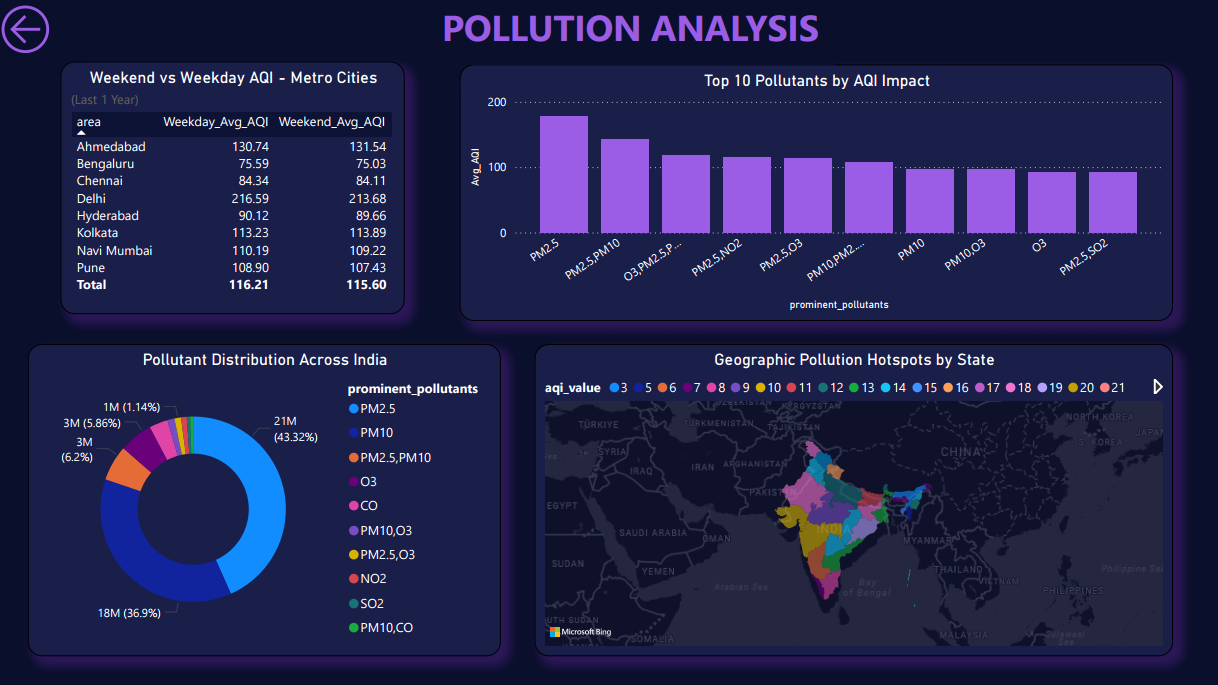

What the dashboard file says about the page in this screenshot:
{"tool":"powerbi","page":{"name":"POLLUTION ANALYSIS","canvas":[1280,720],"ordinal":2},"visuals":[{"type":"tableEx","title":"Weekend vs Weekday AQI - Metro Cities","fields":{"Values":["AQI_data.area","AQI_data.Weekday_Avg_AQI","AQI_data.Weekend_Avg_AQI"]},"box":[67.5,66.2,358.8,262.5],"z":0},{"type":"donutChart","title":"Pollutant Distribution Across India","fields":{"Category":["AQI_data.prominent_pollutants"],"Y":["Sum(AQI_data.aqi_value)"]},"box":[33.8,360,492.5,325],"z":1000},{"type":"clusteredColumnChart","title":"Top 10 Pollutants by AQI Impact","fields":{"Y":["AQI_data.Avg_AQI"],"Category":["AQI_data.prominent_pollutants"]},"box":[482.5,68.8,742.5,267.5],"z":2000},{"type":"filledMap","title":"Geographic Pollution Hotspots by State","fields":{"Category":["dim_state.state"],"Series":["AQI_data.aqi_value"]},"box":[561.2,360,663.8,325],"z":3000},{"type":"textbox","box":[460,0,412.5,68.8],"z":4000},{"type":"actionButton","box":[0,1.2,67.5,62.5],"z":5000}]}

Visuals, with their boxes in screenshot pixels (x1, y1, x2, y2), scaled from the page's 1280x720 canvas onto the 1218x685 screenshot:
"Weekend vs Weekday AQI - Metro Cities" tableEx: 64/63/406/313
"Pollutant Distribution Across India" donutChart: 32/342/501/652
"Top 10 Pollutants by AQI Impact" clusteredColumnChart: 459/65/1166/320
"Geographic Pollution Hotspots by State" filledMap: 534/342/1166/652
textbox: 438/0/830/65
actionButton: 0/1/64/61
